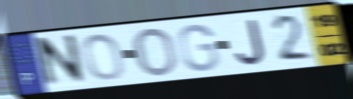2: (272, 12, 315, 67)
G: (176, 22, 221, 73)
J: (234, 17, 269, 67)
N: (37, 32, 88, 91)
O: (133, 26, 180, 78), (81, 32, 126, 82)
